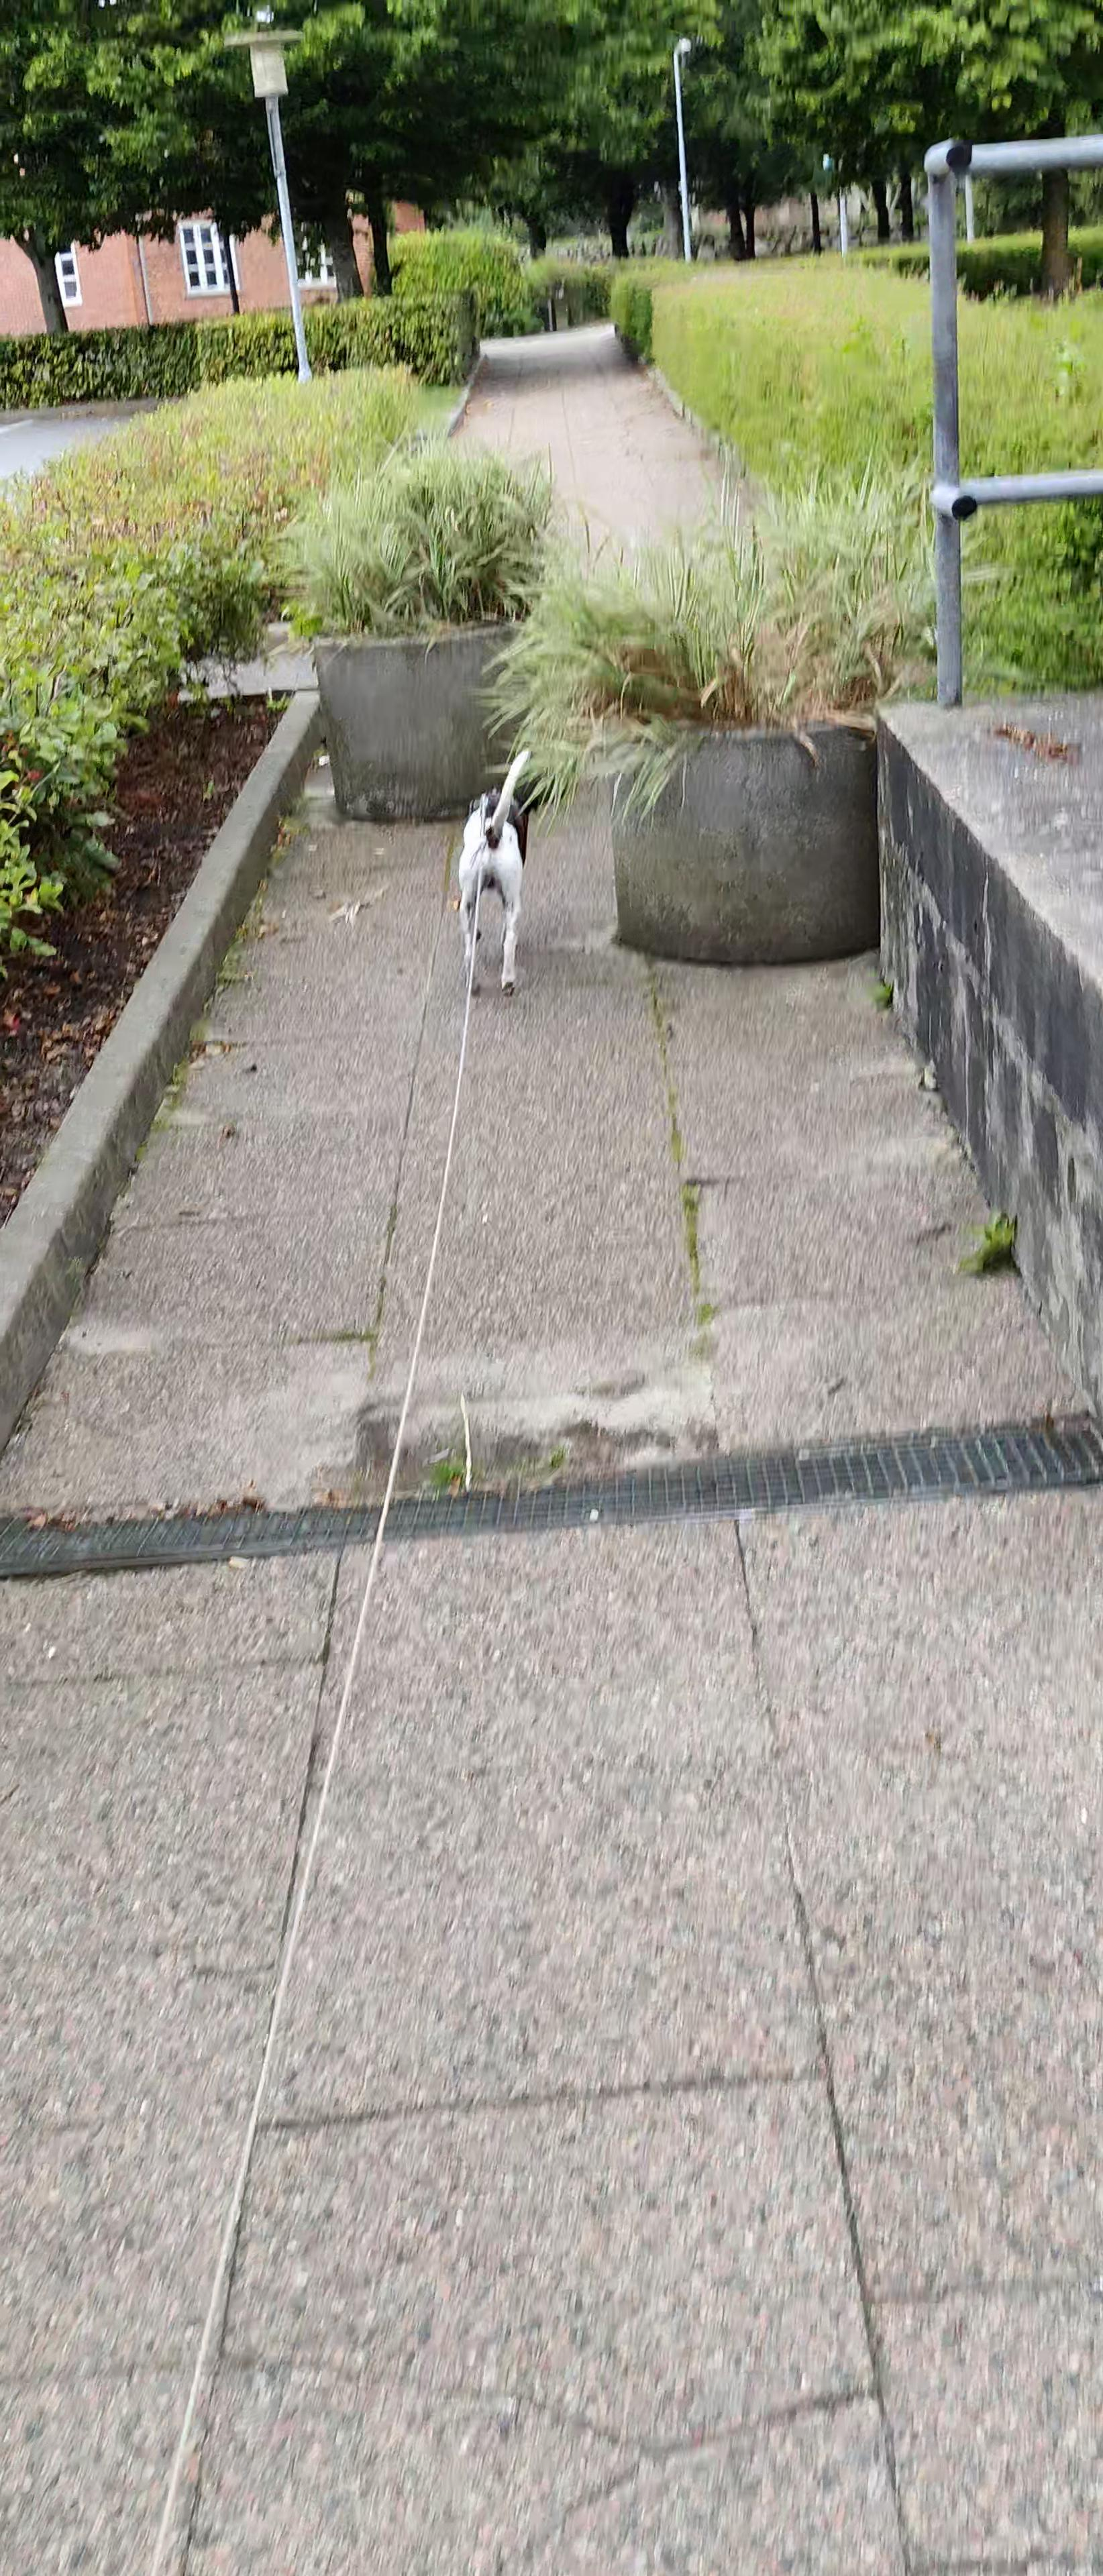Dog: (454, 744, 533, 999)
